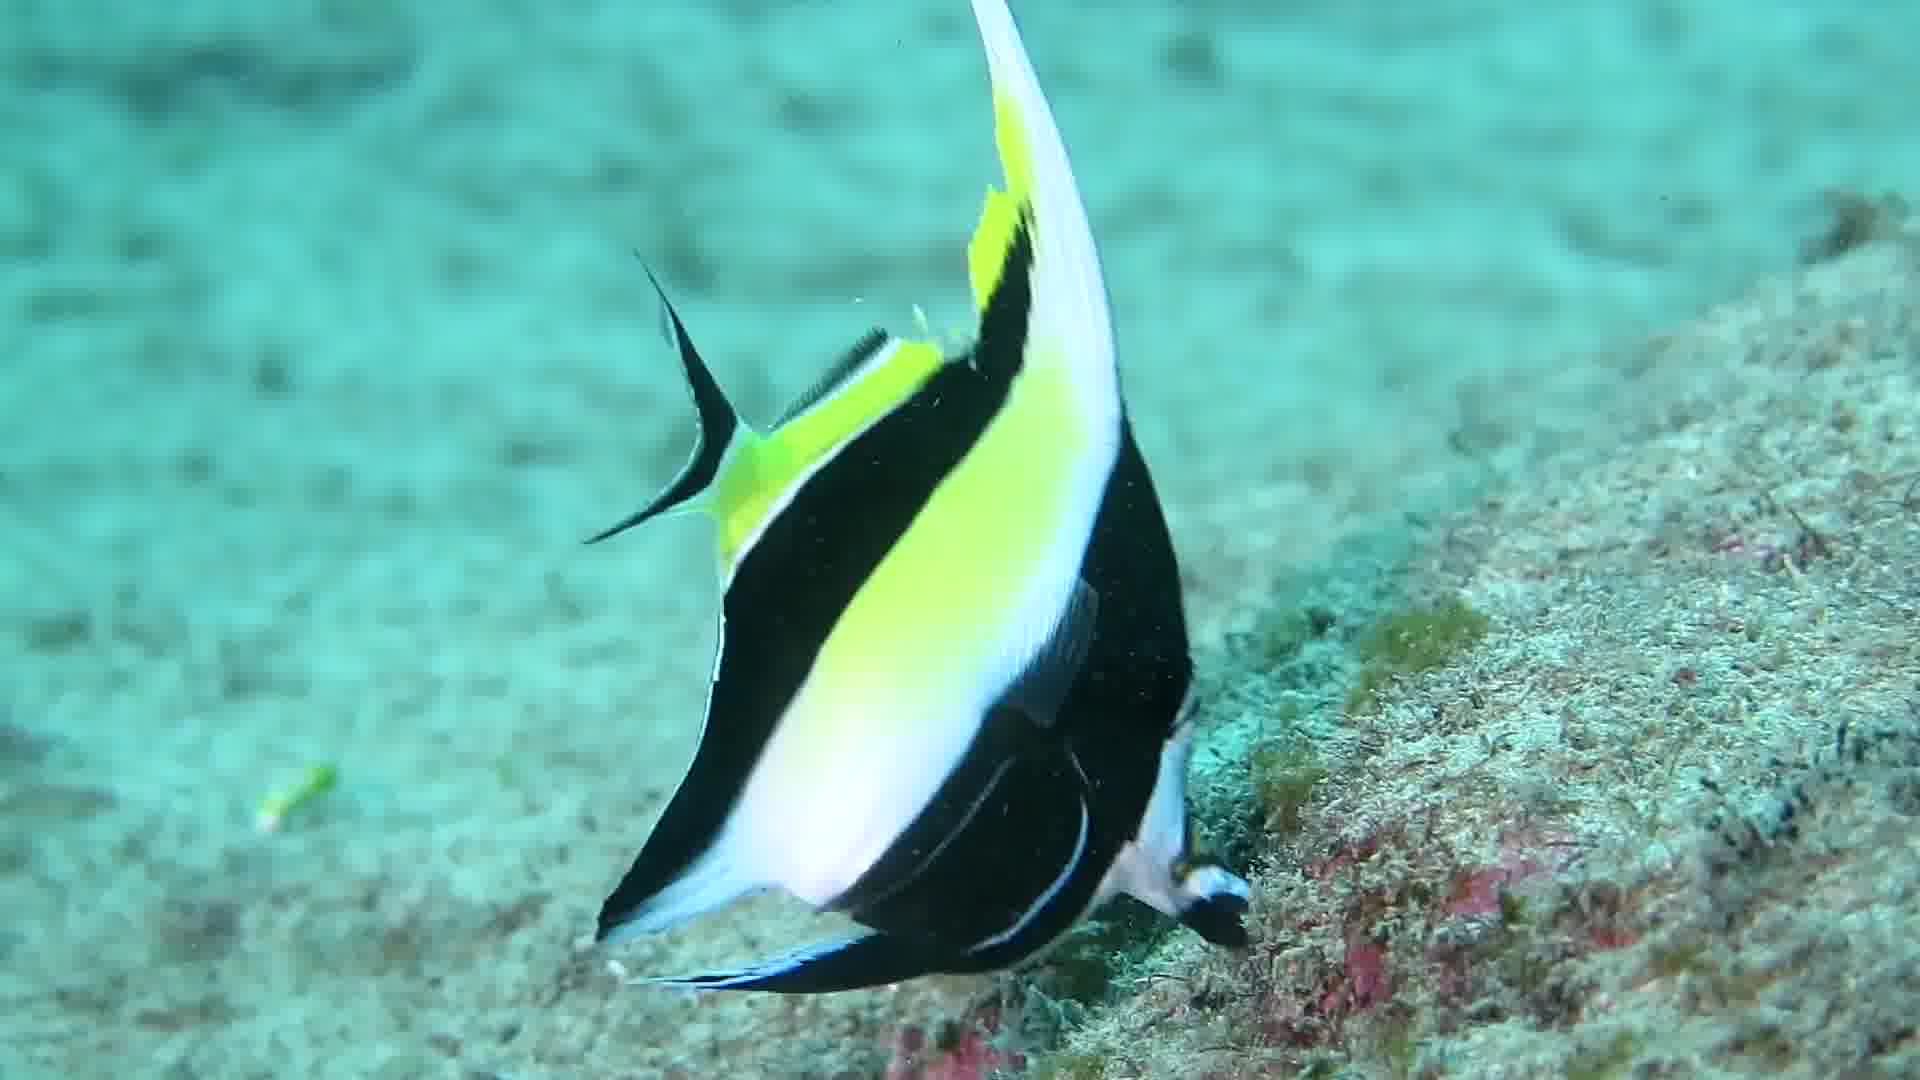Zanclus cornutus: (579, 276, 1273, 1036)
